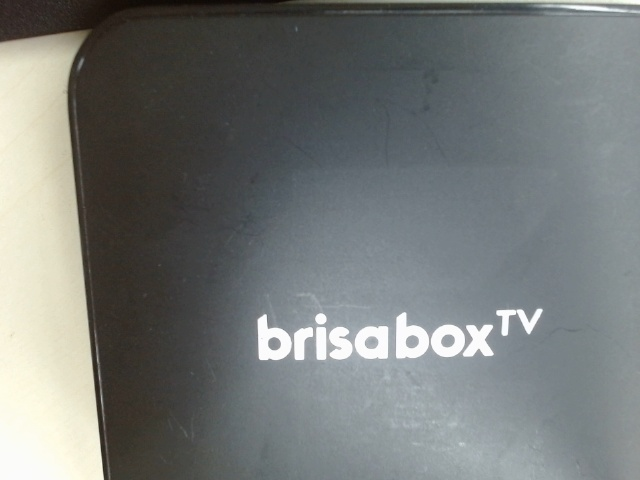AH_brisabox: (249, 302, 553, 371)
